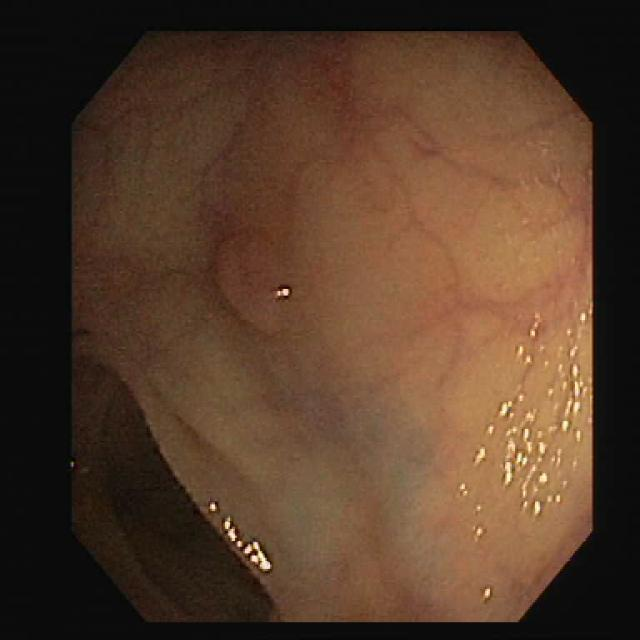tumor: (215, 209, 292, 331)
